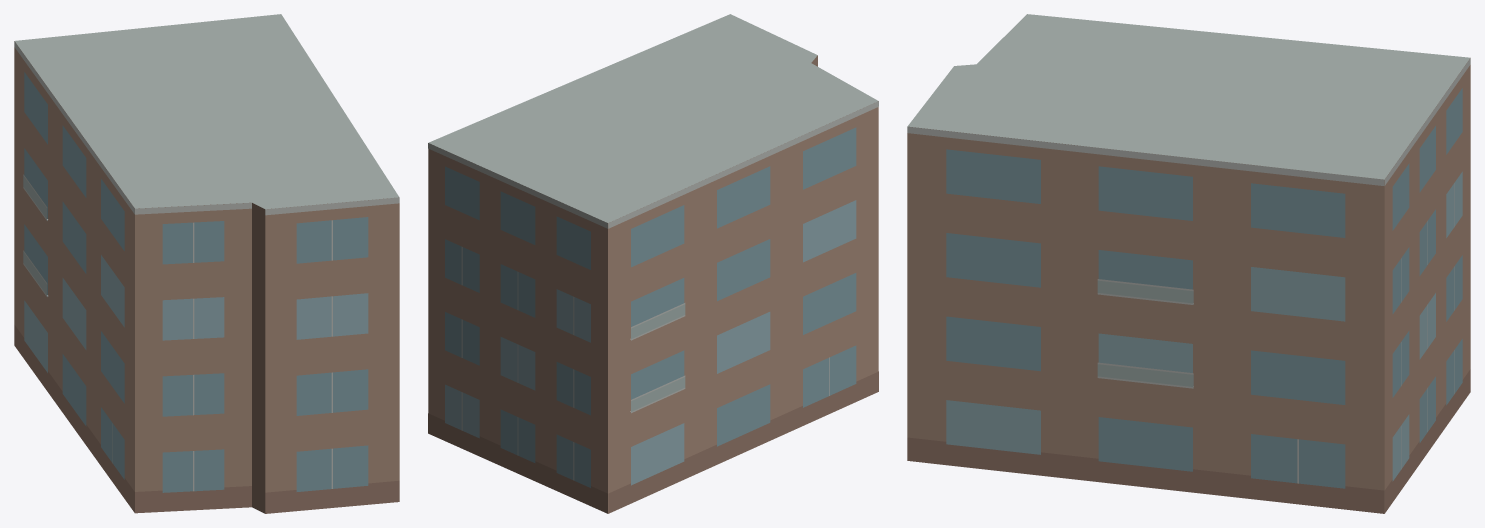
File: survey-upis-32642561.glb
3 views of the same model, side by side, from view 1: azimuth 30°, elevation 25°; view 2: azimuth 150°, elevation 25°; view 3: azimuth 270°, elevation 25° (orthographic). The views are drawn at different scales.
Parts seen in each view (by area): view 1: survey-upis-32642561.tmp; view 2: survey-upis-32642561.tmp; view 3: survey-upis-32642561.tmp.
Part boxes in pixels (x1,y1,x2,y2): survey-upis-32642561.tmp: (14,14,399,513); survey-upis-32642561.tmp: (428,14,878,513); survey-upis-32642561.tmp: (907,14,1470,513).
Bounding box in the file's own units: 13.11 × 12.33 × 18.84.
